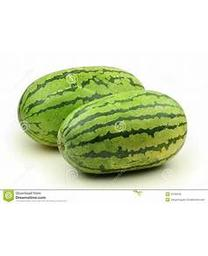watermelon: (56, 90, 189, 176), (16, 65, 147, 148)
